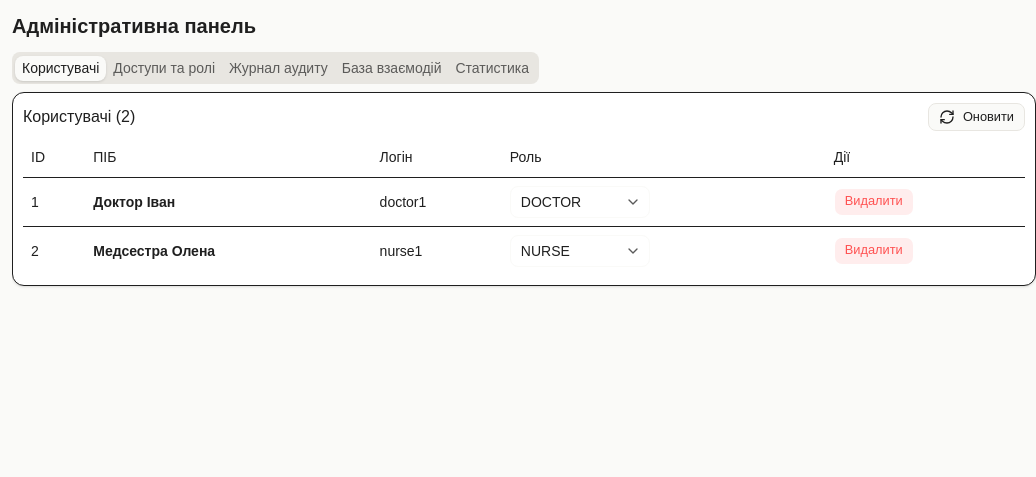
Test case: AdminPage › runs retention on demand and shows the archive report
The width and height of the screenshot is (1036, 477).
Step 1. Click the tab "Журнал аудиту" → (278, 68), box x1=222 y1=56 x2=335 y2=80
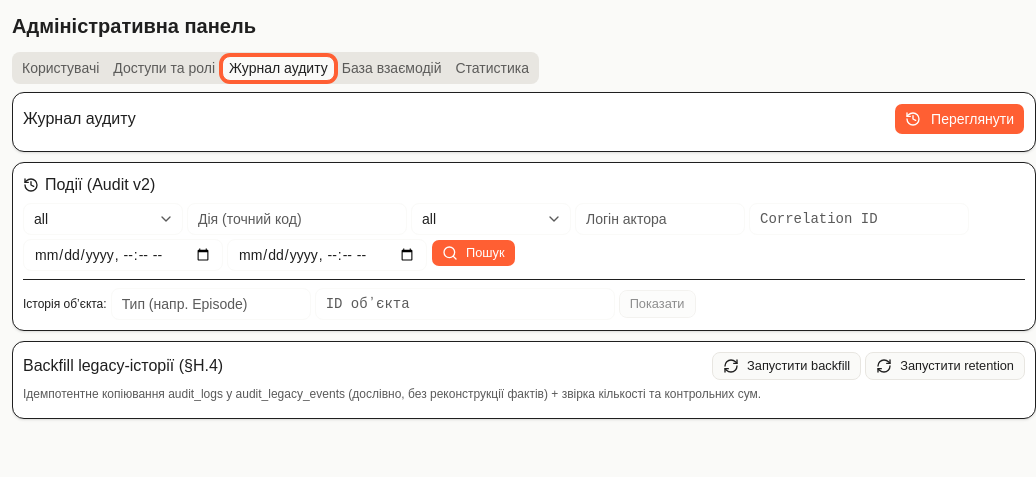
Step 2. Click the button "Запустити retention" → (945, 366), box x1=865 y1=352 x2=1025 y2=380
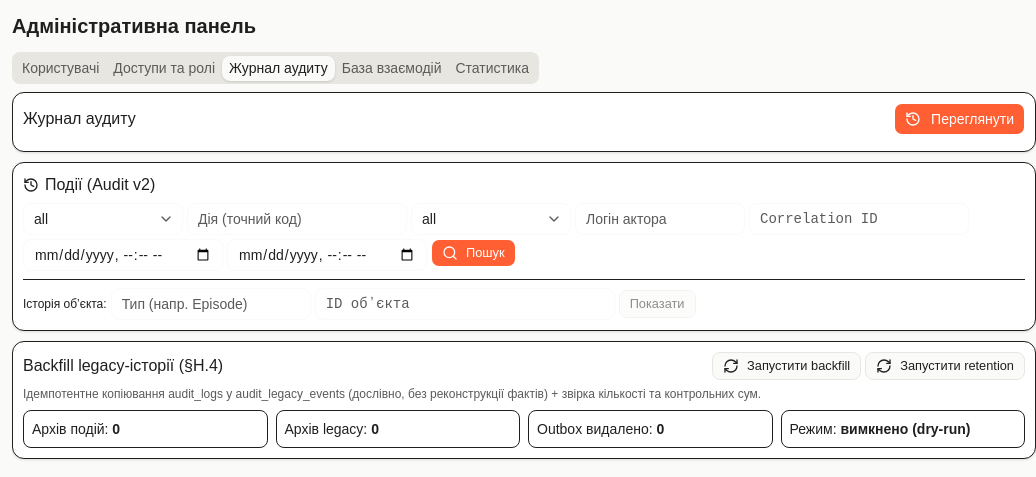
Expected: the element with test id "retention-report" is shown, x1=23 y1=410 x2=1025 y2=448
Expected: the text "вимкнено (dry-run)" is shown, x1=840 y1=421 x2=970 y2=437
